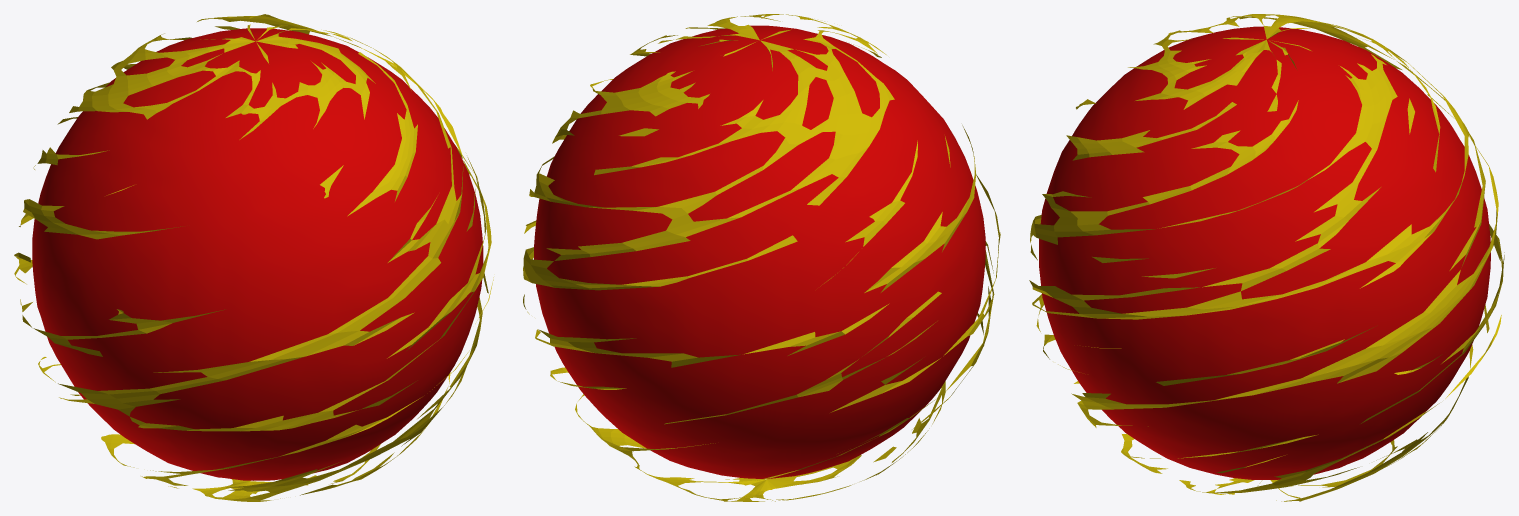
Rendered from FireBall.obj.
3 renders of one model, left to right at view 1: azimuth 30°, elevation 25°; view 2: azimuth 150°, elevation 25°; view 3: azimuth 270°, elevation 25°, orthographic.
Parts seen in each view (by area): view 1: Сфера.001, Сфера; view 2: Сфера.001, Сфера; view 3: Сфера.001, Сфера.
Part boxes in pixels (x1,y1,x2,y2): Сфера.001: [32, 28, 483, 480]; Сфера: [14, 14, 493, 501]; Сфера.001: [534, 25, 985, 478]; Сфера: [523, 14, 1000, 501]; Сфера.001: [1039, 26, 1490, 479]; Сфера: [1029, 14, 1504, 501].
Bounding box in the file's own units: 1.9 × 1.95 × 1.89.
